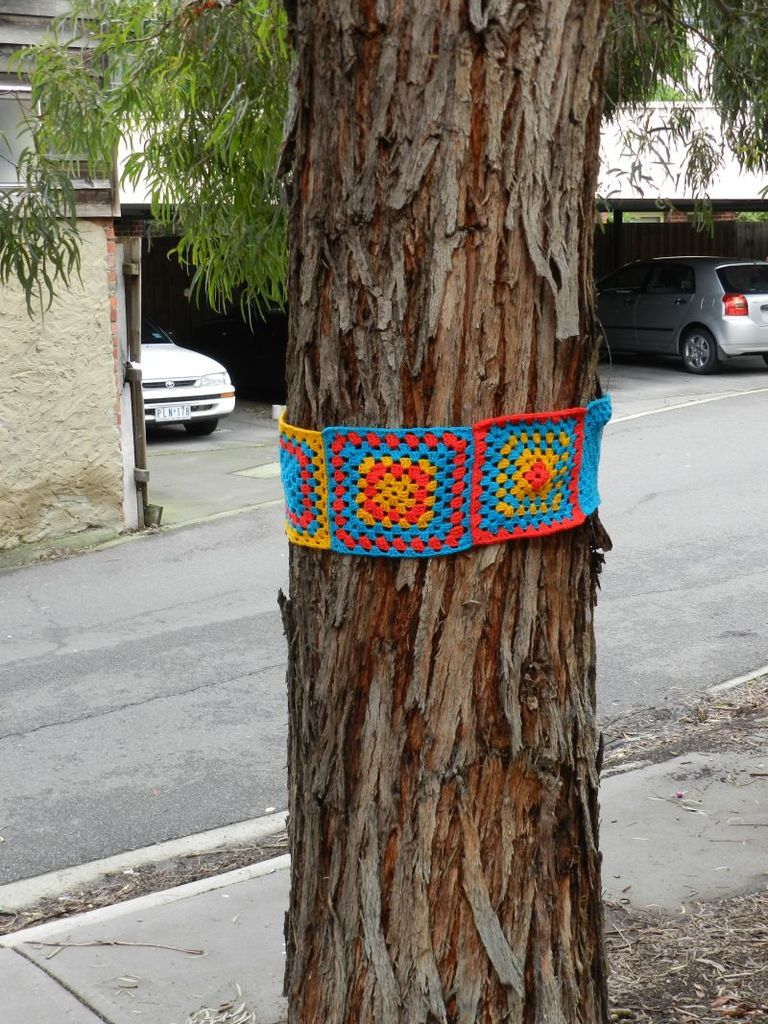Car: (601, 226, 763, 354), (142, 308, 236, 439)
